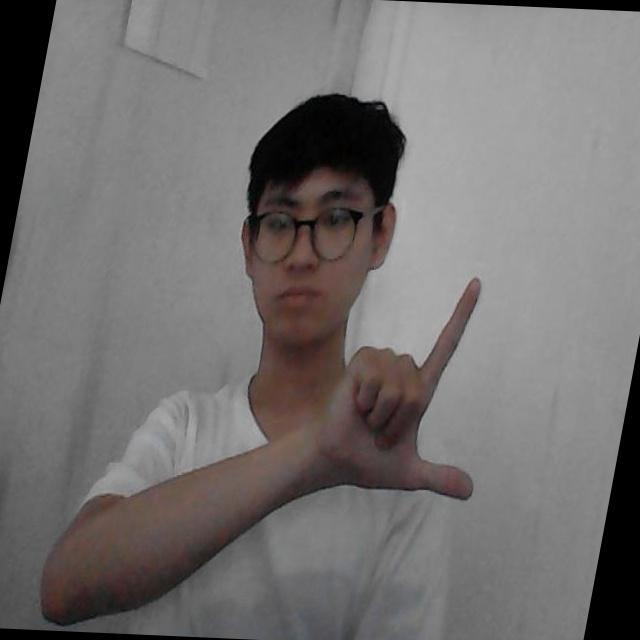L: (336, 273, 484, 502)
